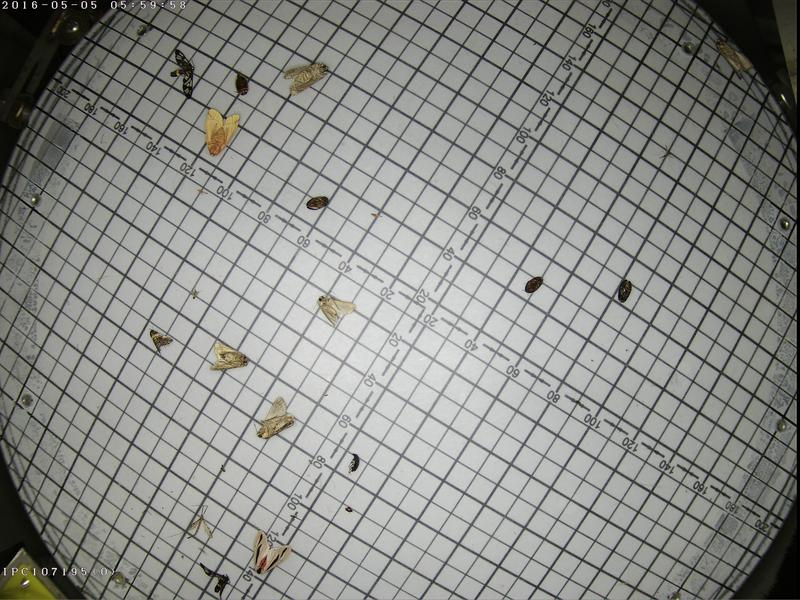Little Gecko: (711, 35, 753, 80)
Spodoptera litura: (252, 393, 294, 439), (280, 57, 328, 96), (311, 289, 356, 328)
